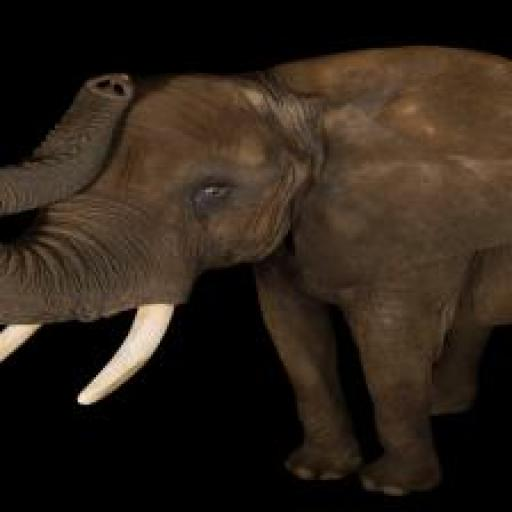Elephant: (1, 46, 510, 496)
